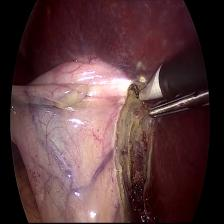Grasper: (144, 83, 208, 133)
Hook: (130, 61, 164, 107)
